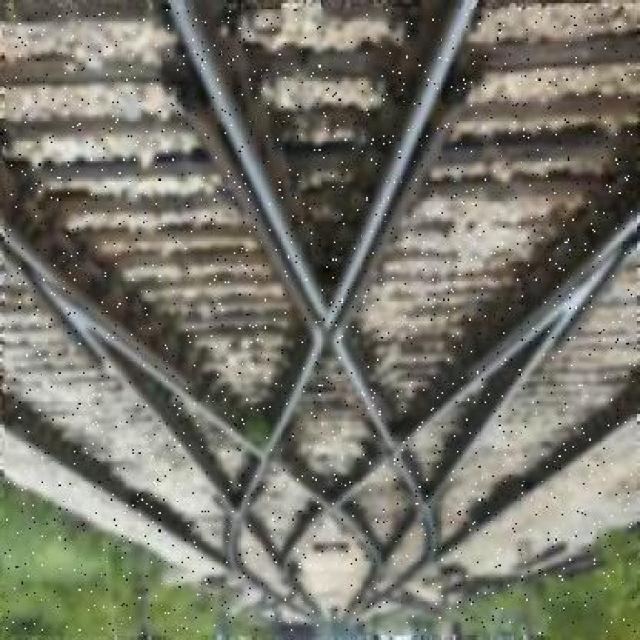rail: (6, 9, 635, 633)
